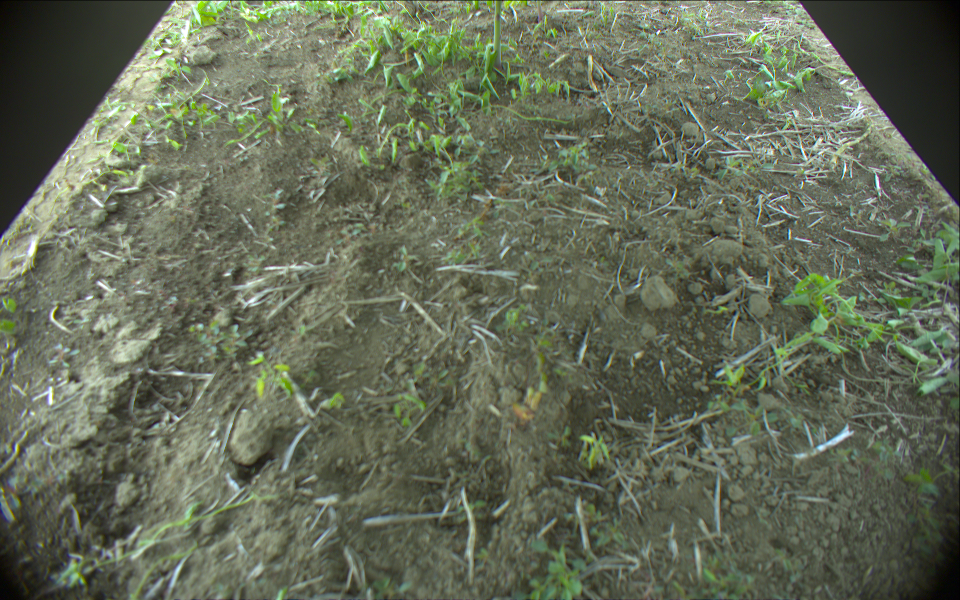aspa: (494, 1, 501, 66)
